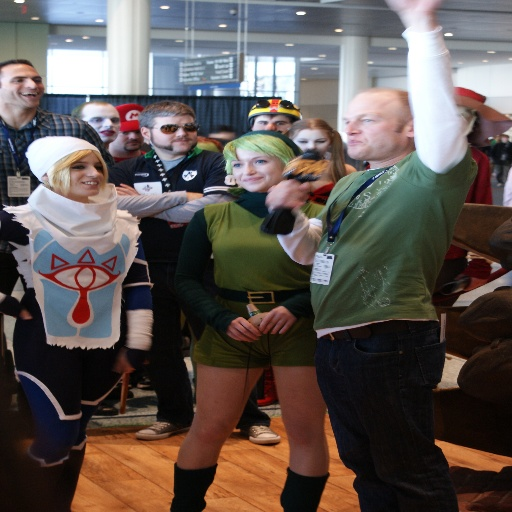hand: (261, 178, 314, 208), (256, 304, 299, 337), (114, 348, 154, 383), (384, 0, 443, 17), (111, 181, 140, 196), (17, 309, 34, 321), (185, 192, 203, 201)
